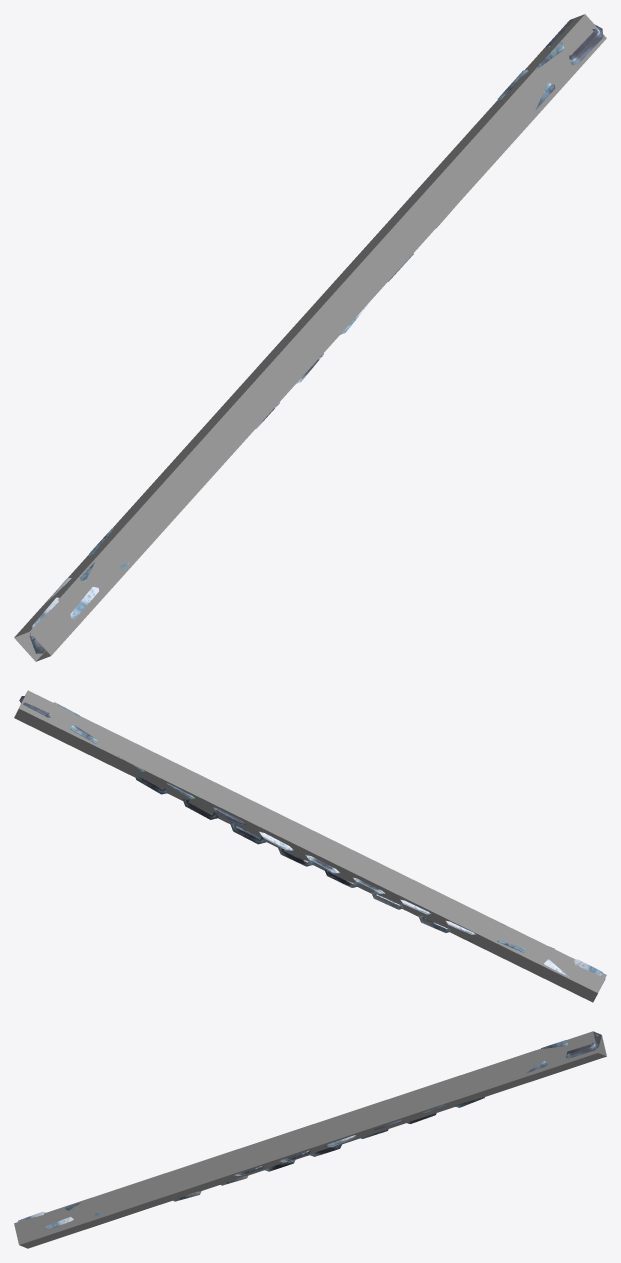
The model's file is Scene_Build_TianShan_SuoLian_1b.FBX.
3 views of the same model, one above another, from view 1: azimuth 30°, elevation 25°; view 2: azimuth 150°, elevation 25°; view 3: azimuth 330°, elevation 25° (orthographic). The views are drawn at different scales.
Visible parts, largest first — view 1: Scene_Build_TianShan_SuoLian_1b_Xzm, Scene_Build_TianShan_SuoLian_1b; view 2: Scene_Build_TianShan_SuoLian_1b_Xzm, Scene_Build_TianShan_SuoLian_1b; view 3: Scene_Build_TianShan_SuoLian_1b_Xzm, Scene_Build_TianShan_SuoLian_1b.
Part boxes in pixels (bbox=[...]): Scene_Build_TianShan_SuoLian_1b_Xzm: bbox=[14, 14, 606, 661]; Scene_Build_TianShan_SuoLian_1b: bbox=[29, 19, 603, 653]; Scene_Build_TianShan_SuoLian_1b_Xzm: bbox=[14, 690, 606, 1002]; Scene_Build_TianShan_SuoLian_1b: bbox=[19, 696, 605, 984]; Scene_Build_TianShan_SuoLian_1b_Xzm: bbox=[14, 1031, 606, 1248]; Scene_Build_TianShan_SuoLian_1b: bbox=[18, 1034, 601, 1230].
Bounding box in the file's own units: 1986 × 1021 × 783.
